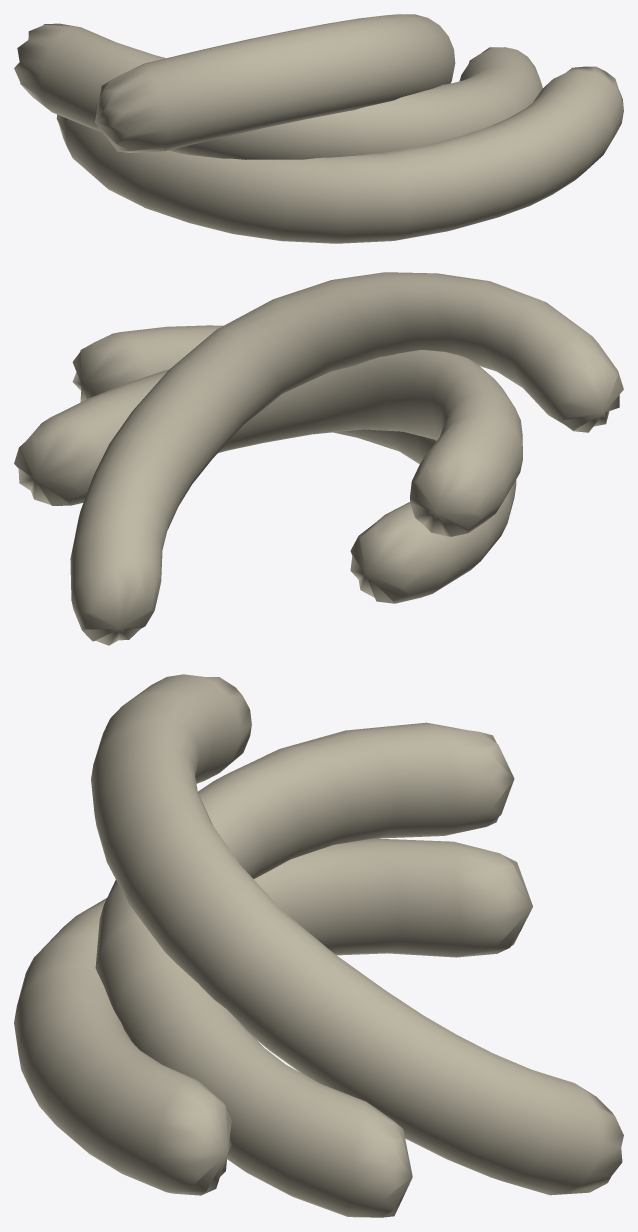
File: TrippleRibones.fbx
3 views of the same model, one above another, from view 1: azimuth 30°, elevation 25°; view 2: azimuth 150°, elevation 25°; view 3: azimuth 270°, elevation 25° (orthographic). The views are drawn at different scales.
Parts seen in each view (by area): view 1: pTorus4; view 2: pTorus4; view 3: pTorus4.
Part boxes in pixels (box(x1,y1,x2,y2)): pTorus4: box(14, 14, 623, 243); pTorus4: box(14, 272, 623, 645); pTorus4: box(14, 674, 623, 1217).
Size of the model in its own units: 314 by 156 by 247.
